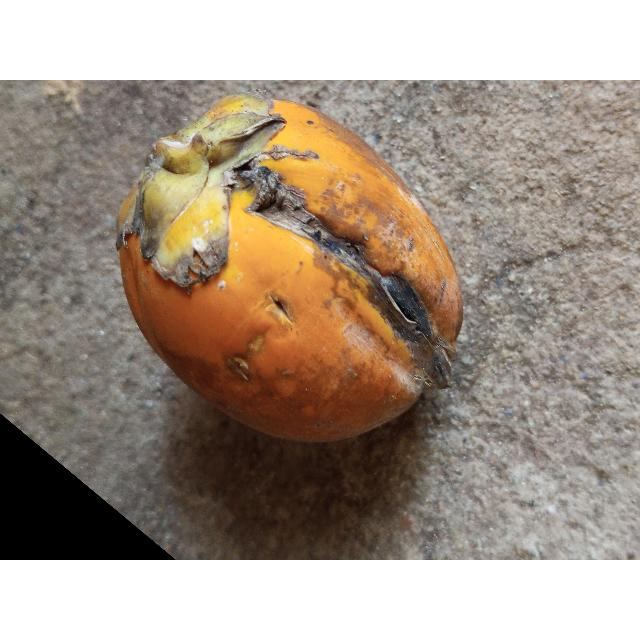damaged: (116, 94, 463, 442)
